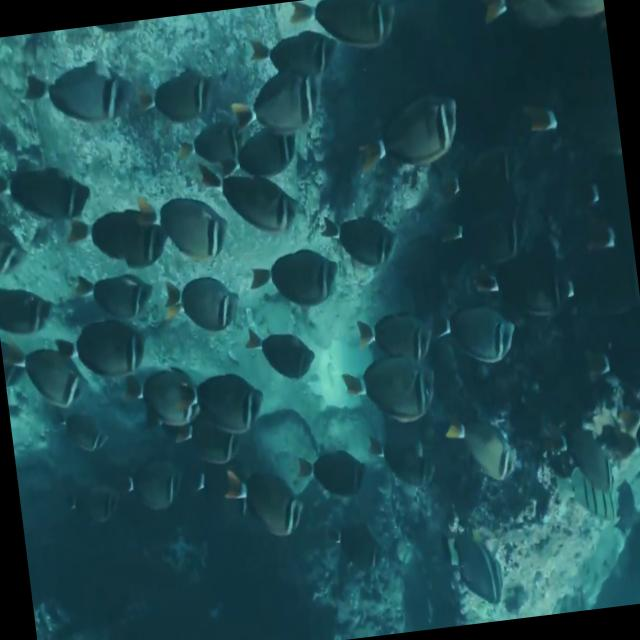fish: (196, 144, 311, 266), (348, 84, 468, 192), (234, 226, 347, 332), (211, 446, 312, 556), (219, 54, 329, 154), (232, 301, 330, 402), (137, 174, 234, 275), (285, 0, 404, 82), (0, 142, 91, 248), (316, 191, 406, 295), (248, 8, 340, 109), (340, 352, 446, 438), (15, 58, 138, 132), (51, 310, 156, 395), (57, 202, 161, 284), (430, 285, 520, 378), (441, 407, 528, 502), (3, 331, 88, 426), (158, 258, 248, 343), (350, 304, 442, 386), (67, 262, 157, 340), (187, 368, 270, 450), (225, 110, 307, 192), (108, 446, 190, 526), (438, 524, 510, 614), (294, 438, 372, 520), (120, 359, 202, 436), (568, 458, 637, 545), (372, 427, 439, 508), (562, 422, 624, 497), (515, 0, 606, 40), (478, 0, 558, 45), (57, 404, 109, 473)
